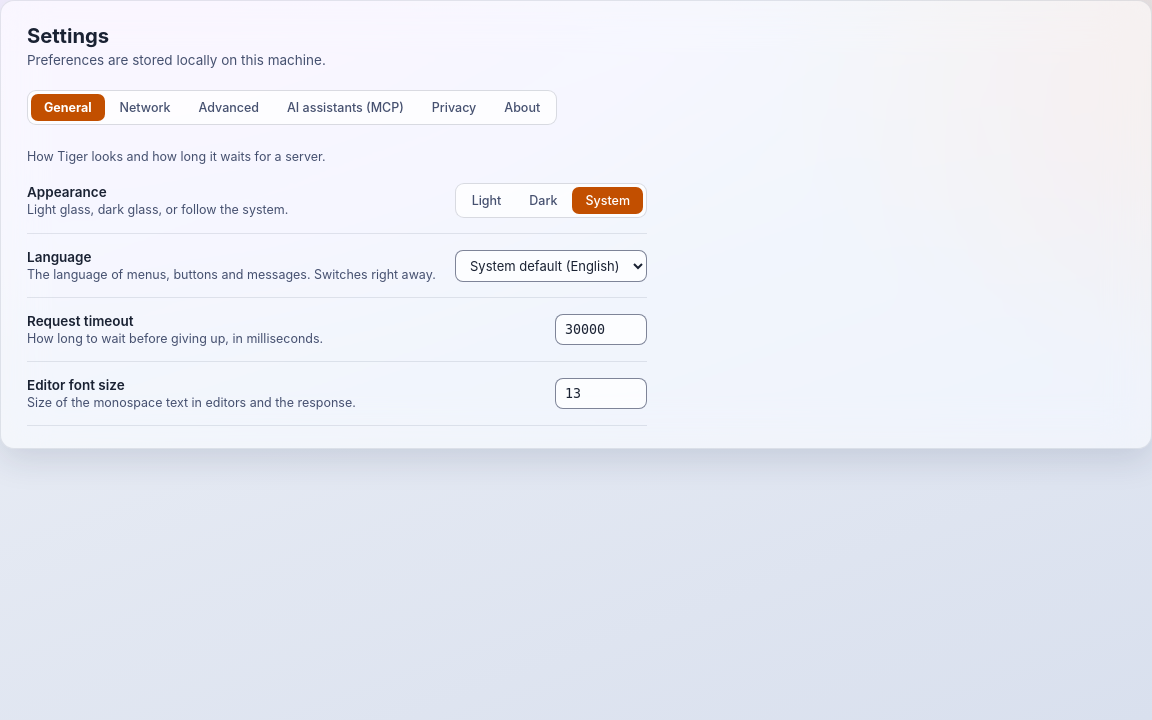
Test case: SettingsView extras › renders the cookie jar toggle in the Network tab
This screenshot has width=1152, height=720.
What coordinates should you click on to do the following:
click the tab "Network"
I would click on:
 (145, 108)
Its box is [107,94,184,121].
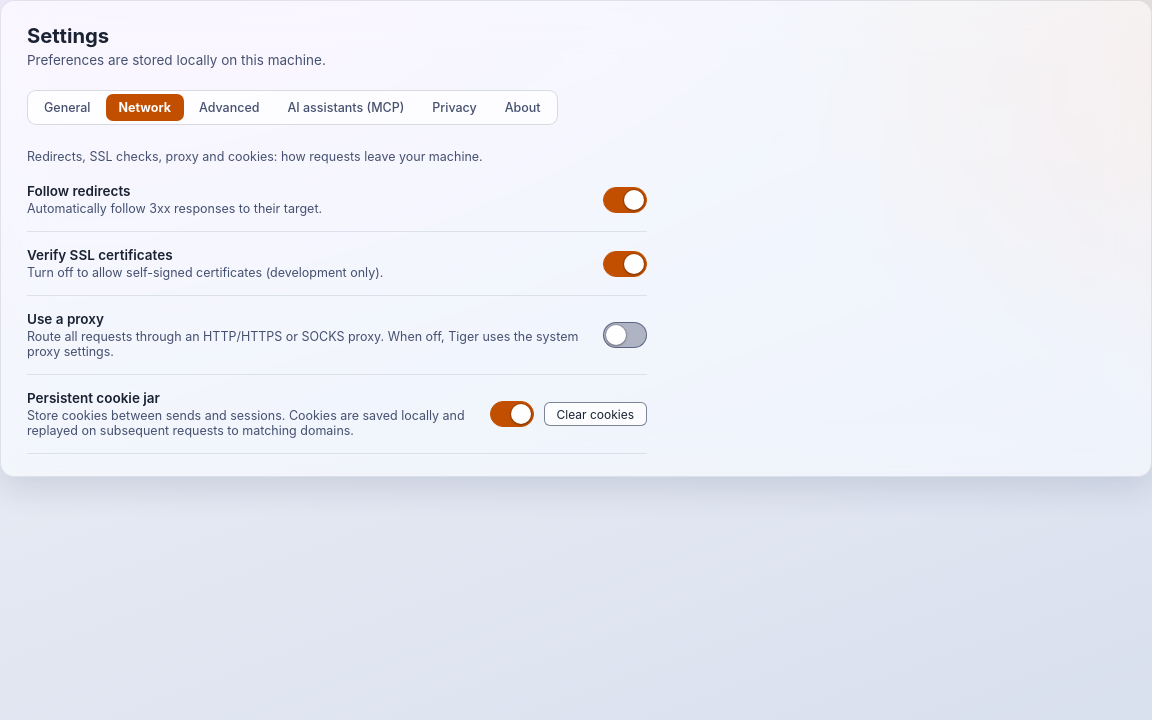
Expected: the text "Persistent cookie jar" is shown, [27,390,160,406]
Expected: the button "Clear cookies" is shown, [544,402,647,426]
